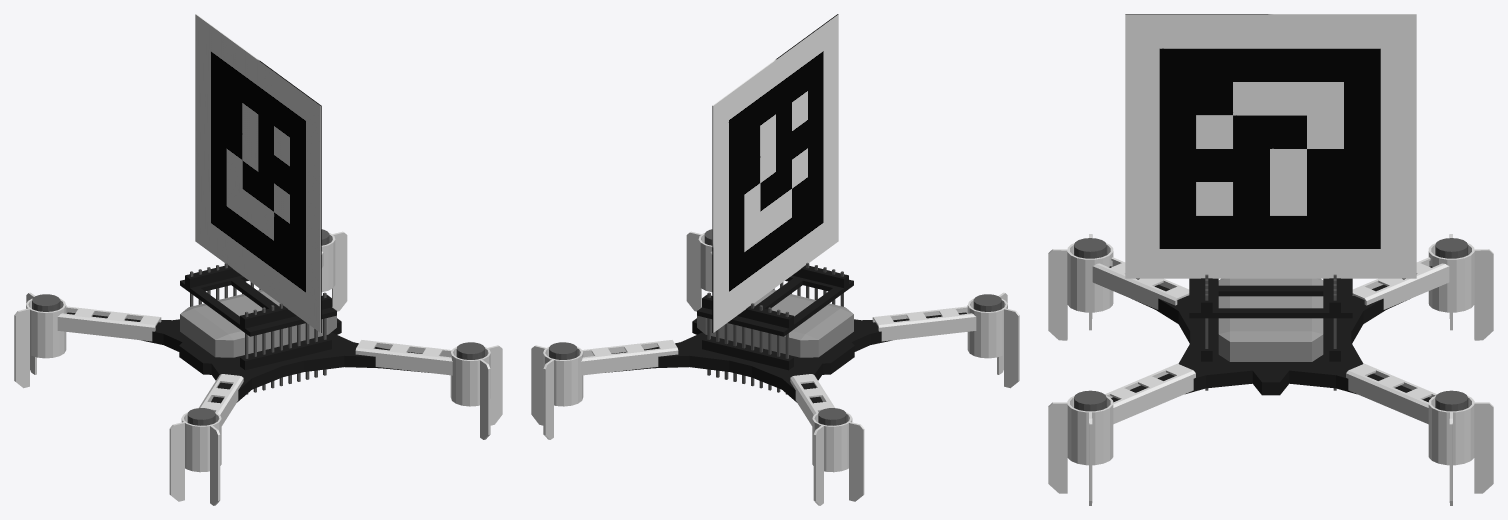
The model's file is cf2_assembly.dae.
3 renders of one model, left to right at view 1: azimuth 30°, elevation 25°; view 2: azimuth 150°, elevation 25°; view 3: azimuth 270°, elevation 25°, orthographic. The views are drawn at different scales.
Parts seen in each view (by area): view 1: Cube.001, motor_mount, cf_body.001, battery, battery_holder, pin_headers, Cylinder; view 2: Cube.001, motor_mount, cf_body.001, battery, battery_holder, pin_headers, Cylinder; view 3: Cube.001, motor_mount, cf_body.001, battery, battery_holder, Cylinder.
Part boxes in pixels (x1,y1,x2,y2): Cube.001: (195,14,321,332); motor_mount: (14,231,502,505); cf_body.001: (67,312,428,411); battery: (180,289,336,357); battery_holder: (180,265,336,336); pin_headers: (190,262,326,394); Cylinder: (32,229,484,425); Cube.001: (712,14,838,332); motor_mount: (531,231,1019,505); cf_body.001: (605,312,966,411); battery: (697,289,853,357); battery_holder: (697,265,853,336); pin_headers: (707,262,843,394); Cylinder: (549,229,1001,425); Cube.001: (1125,14,1416,278); motor_mount: (1048,234,1493,505); cf_body.001: (1109,266,1432,402); battery: (1218,278,1323,361); battery_holder: (1189,278,1352,318); Cylinder: (1074,238,1467,411).
Size of the model in its own units: 0.0764 by 0.0764 by 0.0761.
Materials: 5 (1 with a texture image).
